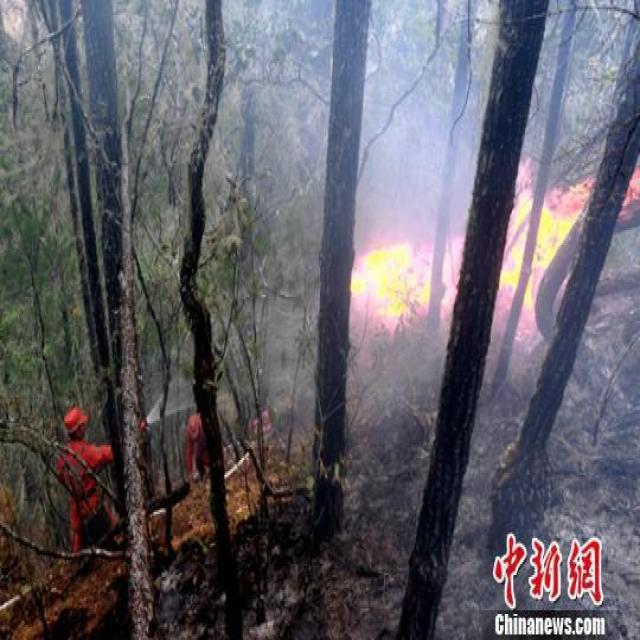Fire: (501, 157, 595, 330), (350, 236, 464, 330), (621, 158, 638, 202)
